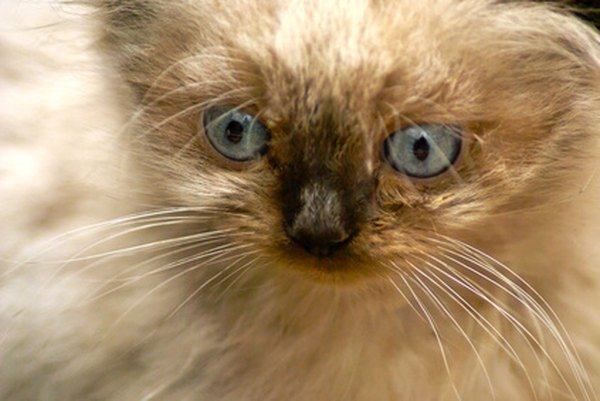cat: (1, 1, 600, 401)
